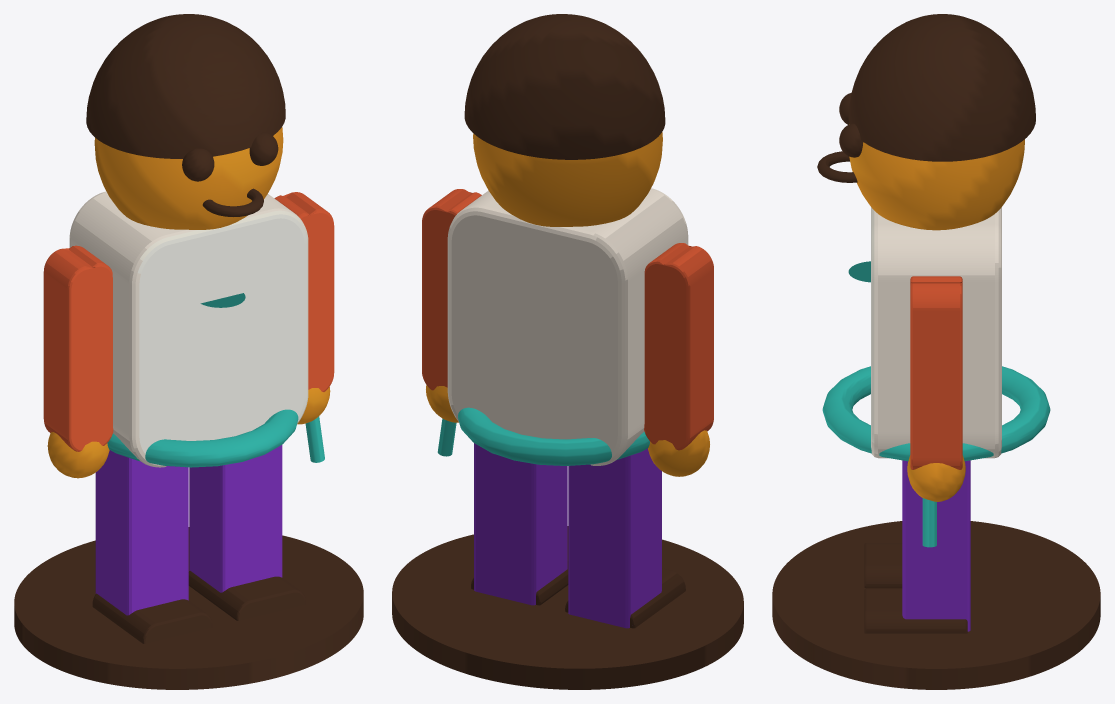
File: 1263_三国演义1_周仓.glb
3 views of the same model, side by side, from view 1: azimuth 30°, elevation 25°; view 2: azimuth 150°, elevation 25°; view 3: azimuth 270°, elevation 25° (orthographic).
Parts seen in each view (by area): view 1: card_1263; view 2: card_1263; view 3: card_1263.
Boxes of the visible parts, <box> form: card_1263: <box>14,14,363,689</box>; card_1263: <box>392,14,743,689</box>; card_1263: <box>772,14,1100,689</box>.
Bounding box in the file's own units: 0.5382 × 1 × 0.4985.
